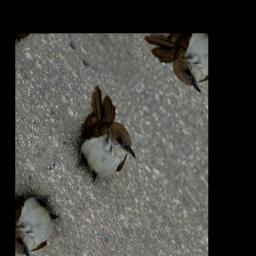Cuckoo: (49, 82, 148, 197)
